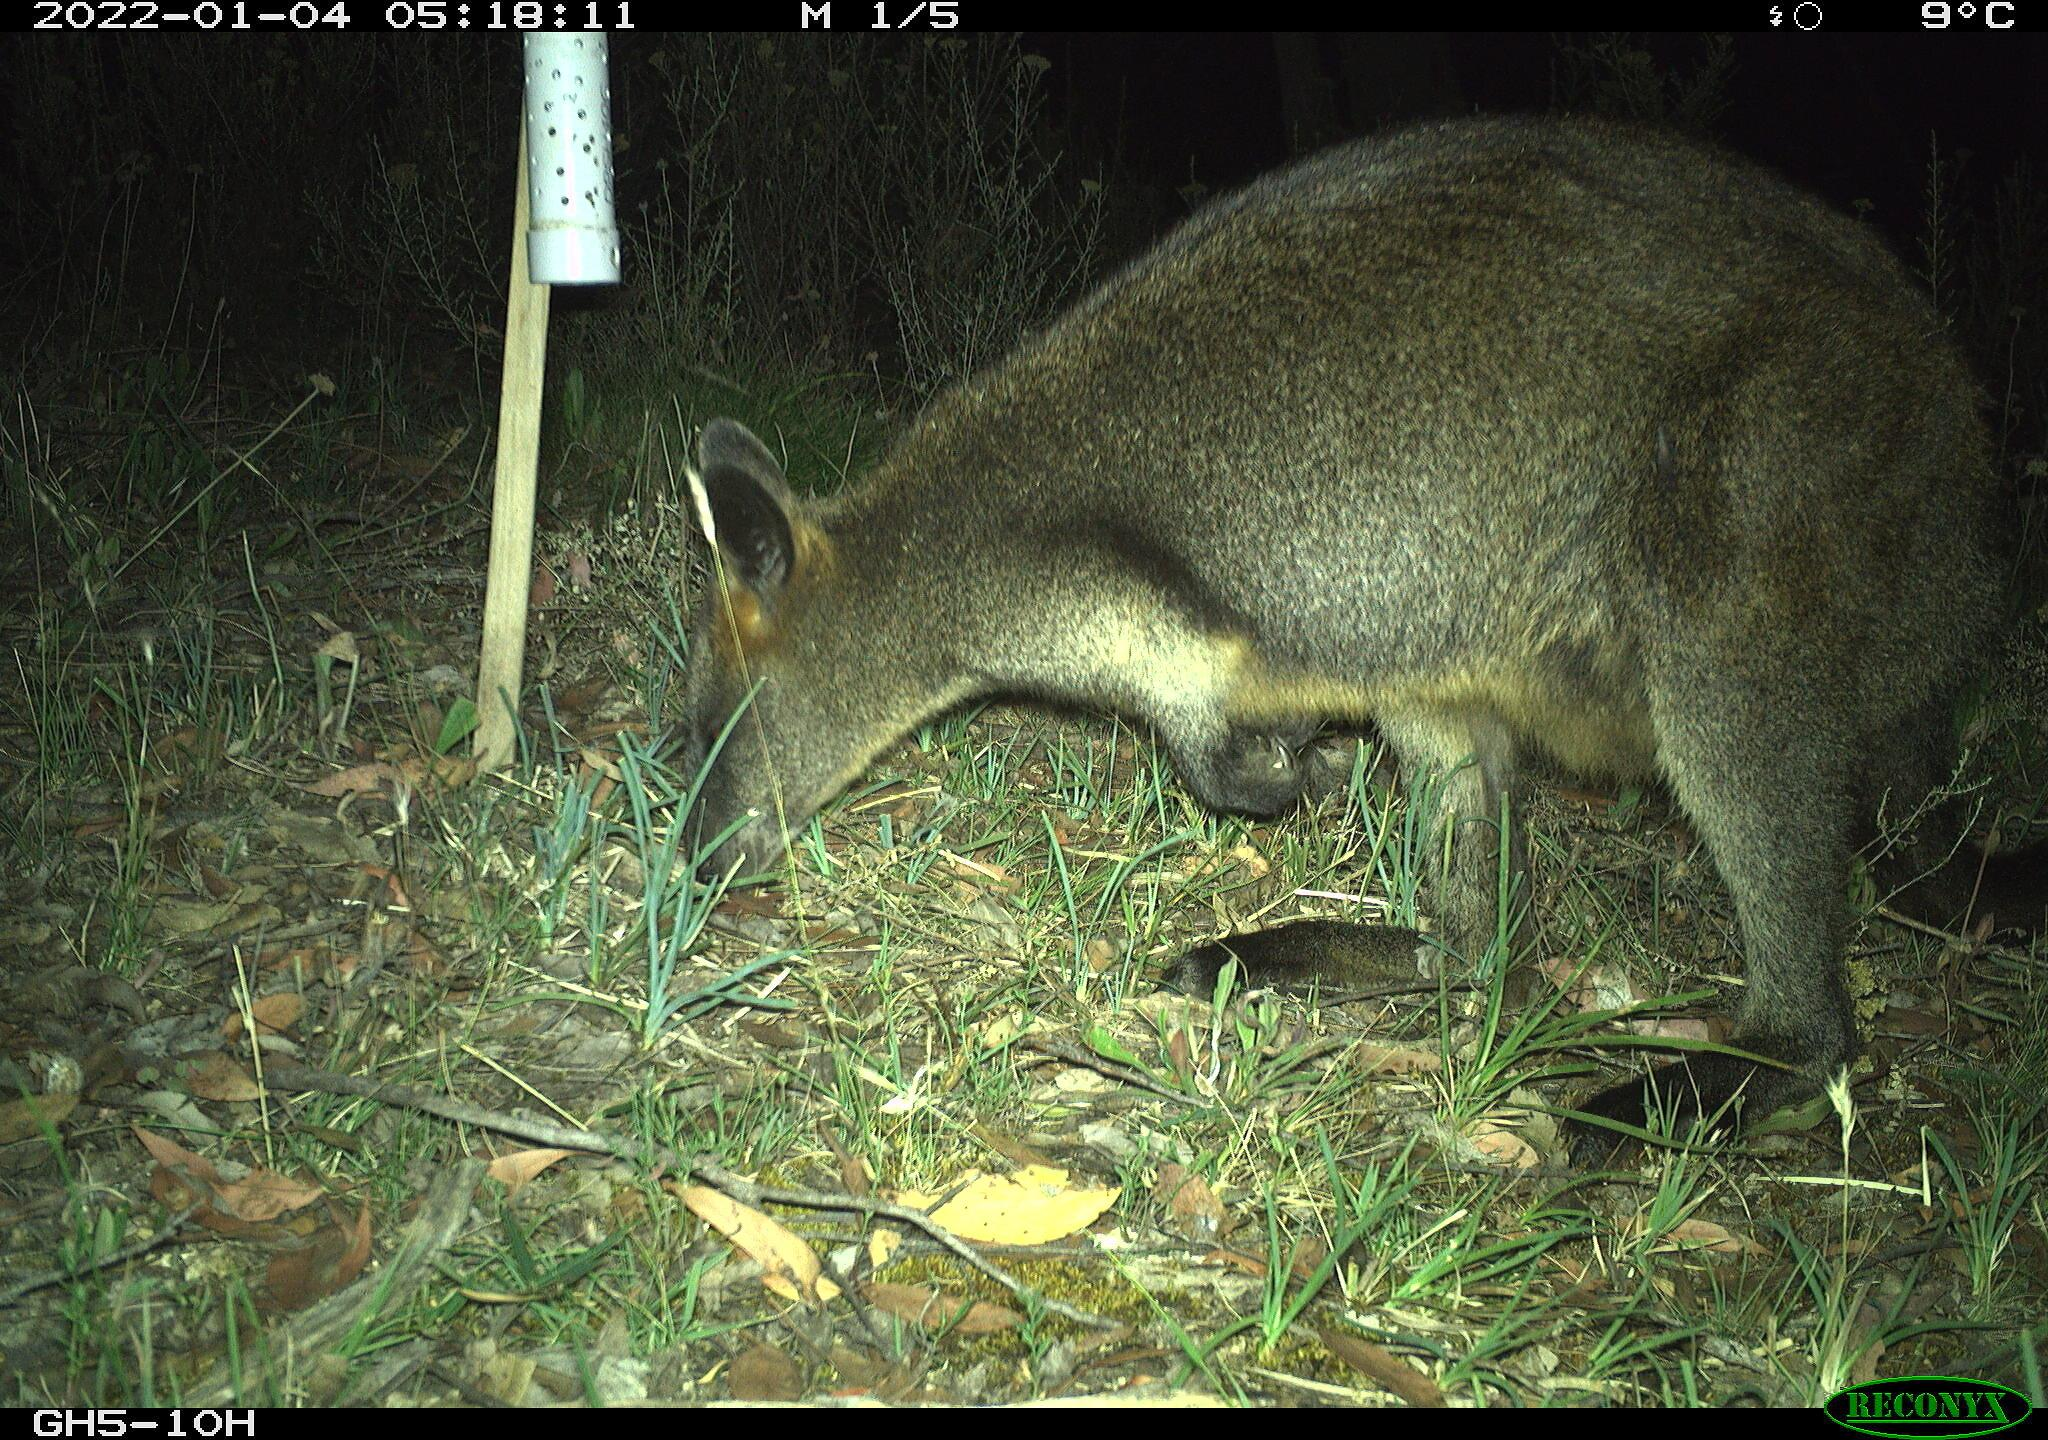Swamp wallaby: (669, 112, 2039, 1334)
